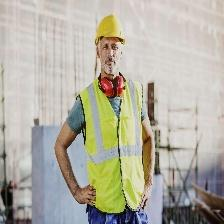Person: (52, 13, 159, 223)
helmet: (95, 11, 126, 46)
vest: (75, 73, 148, 214)
